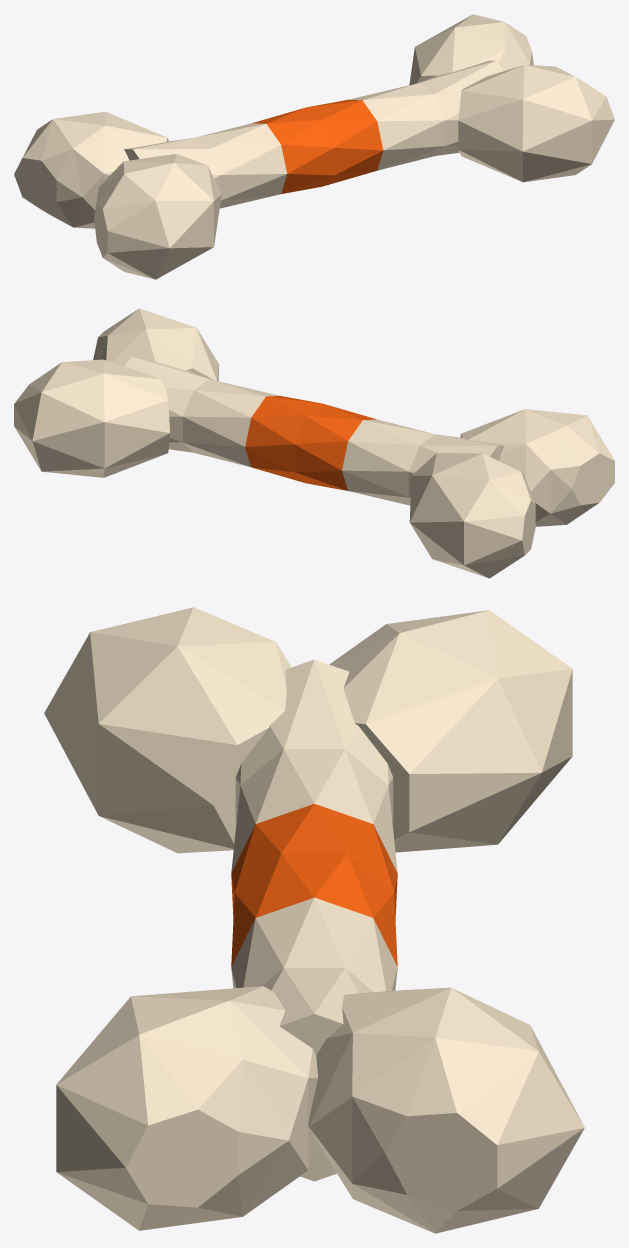
The model's file is cozy_shiba_toy_bone.obj.
3 renders of one model, top to bottom at view 1: azimuth 30°, elevation 25°; view 2: azimuth 150°, elevation 25°; view 3: azimuth 270°, elevation 25°, orthographic. The views are drawn at different scales.
Parts seen in each view (by area): view 1: ToyBone_Mesh; view 2: ToyBone_Mesh; view 3: ToyBone_Mesh.
Boxes of the visible parts, x1,y1,x2,y2 form: ToyBone_Mesh: [14, 14, 614, 279]; ToyBone_Mesh: [14, 308, 614, 578]; ToyBone_Mesh: [44, 607, 584, 1233].
Bounding box in the file's own units: 0.1897 × 0.037 × 0.0877.
